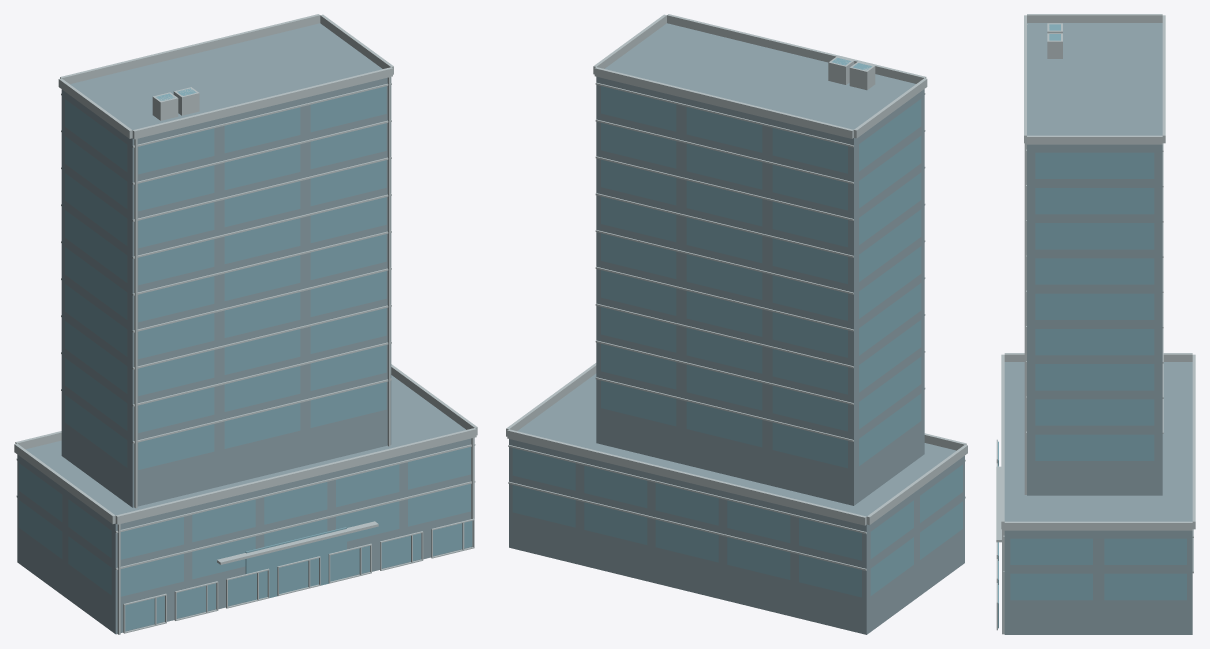
The model's file is commercial_4x2_b.glb.
The picture shows the model from 3 angles, left to right: view 1: azimuth 30°, elevation 25°; view 2: azimuth 150°, elevation 25°; view 3: azimuth 270°, elevation 25°; orthographic projection. The views are drawn at different scales.
Visible parts, largest first — view 1: commercial_4x2_b_0; view 2: commercial_4x2_b_0; view 3: commercial_4x2_b_0.
Part boxes in pixels (x1=…): commercial_4x2_b_0: x1=14, y1=14, x2=477, y2=634; commercial_4x2_b_0: x1=506, y1=14, x2=967, y2=634; commercial_4x2_b_0: x1=996, y1=14, x2=1195, y2=634.
Bounding box in the file's own units: 31 × 40.5 × 15.4.
